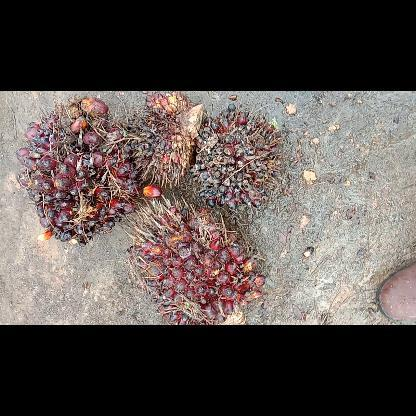Kurang masak: (16, 96, 144, 247)
TBS abnormal: (188, 103, 282, 211), (126, 90, 208, 188)
TBS masak: (124, 192, 264, 324)
